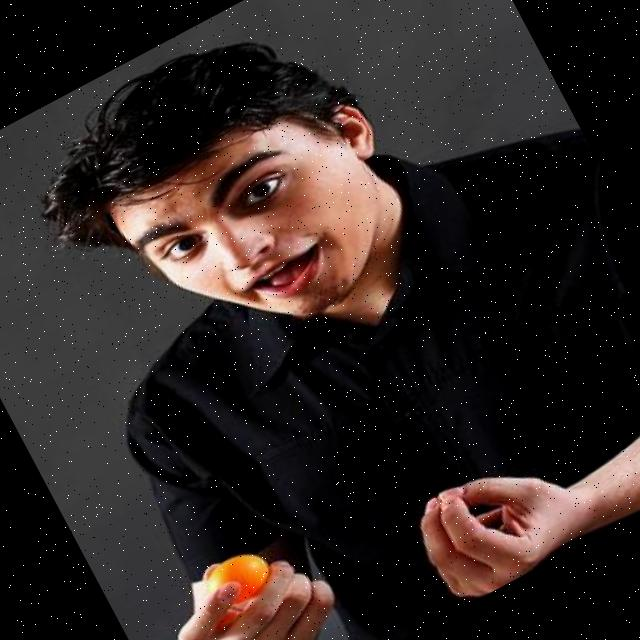ping-pong-ball: (194, 540, 276, 614)
